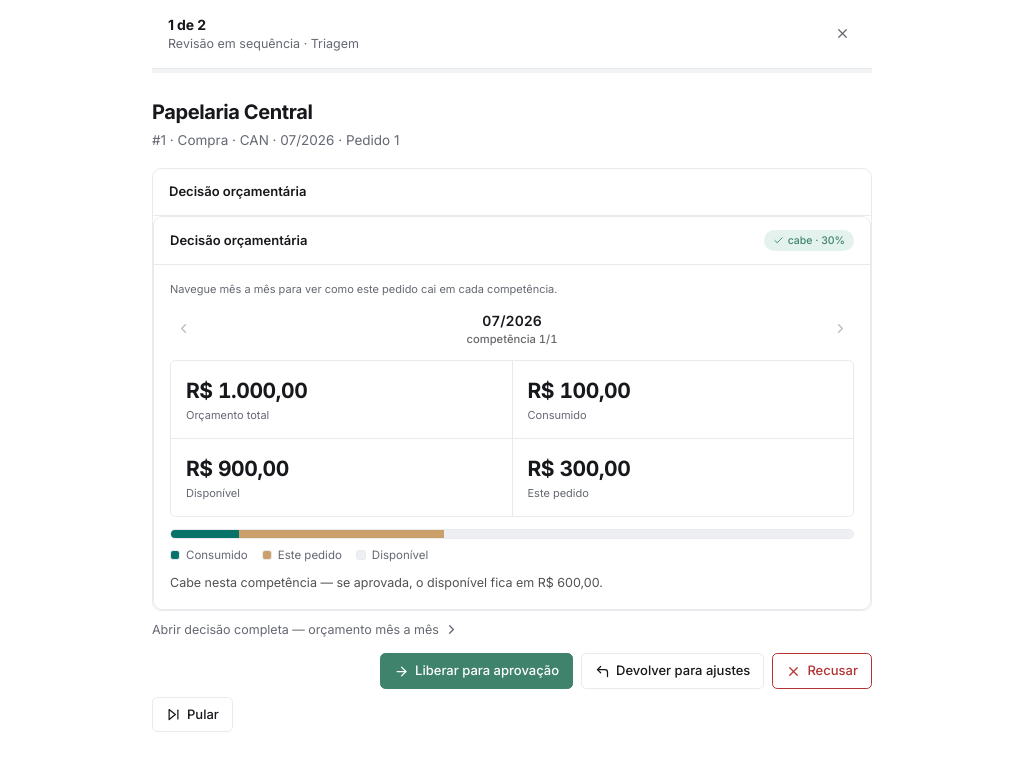
Scenario: TriageSequence › snapshot congelado: a fila encolher por trás não re-embaralha o N de M
The image size is (1024, 768).
Check: the text "1 de 2" is shown, box x1=168 y1=16 x2=206 y2=33
Click the button "Liberar para aprovação": (477, 671) x1=380 y1=653 x2=573 y2=689
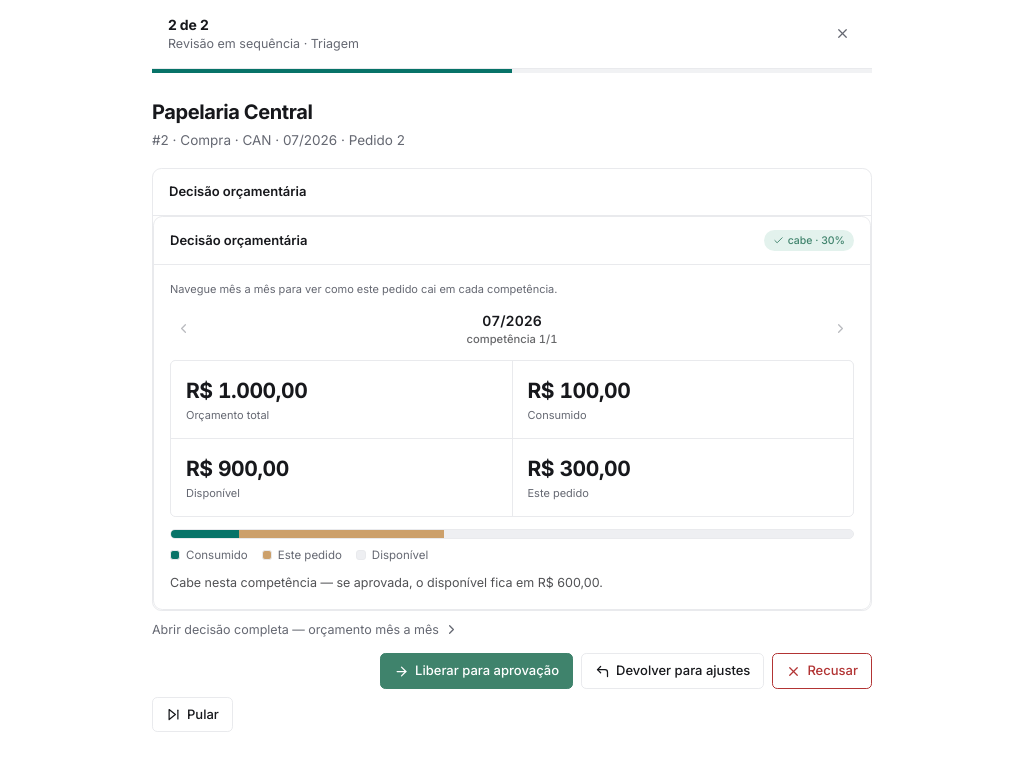
Check: the text "2 de 2" is shown, box x1=168 y1=16 x2=209 y2=33
